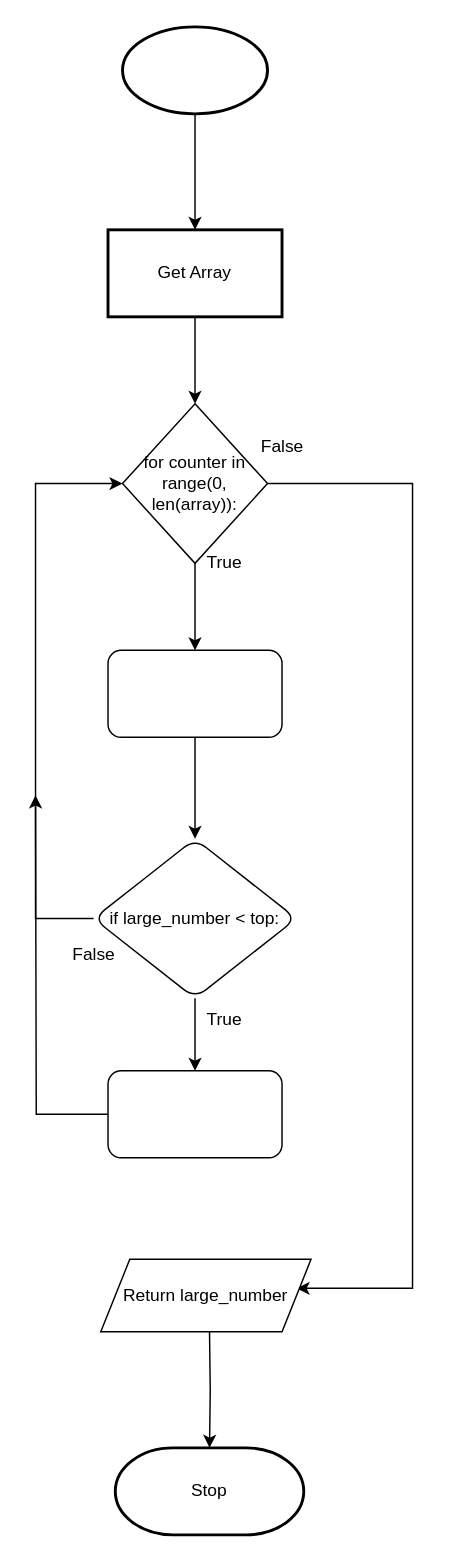
The diagram is 450 pixels wide and 1560 high, and some of its shapes have lost their labels. Each missing label, with the centre of its shape:
"large_number = top" goes at (x=194, y=1113).
"Start" goes at (x=194, y=70).
"top = array[counter]" goes at (x=194, y=693).
